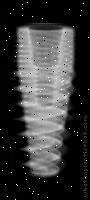Euroteknika: (15, 24, 77, 179)
